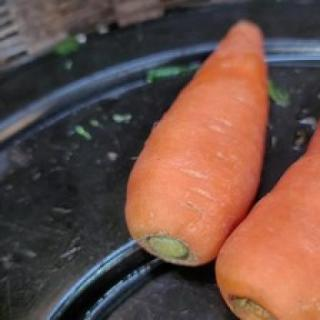Wortel: (122, 17, 285, 267)
